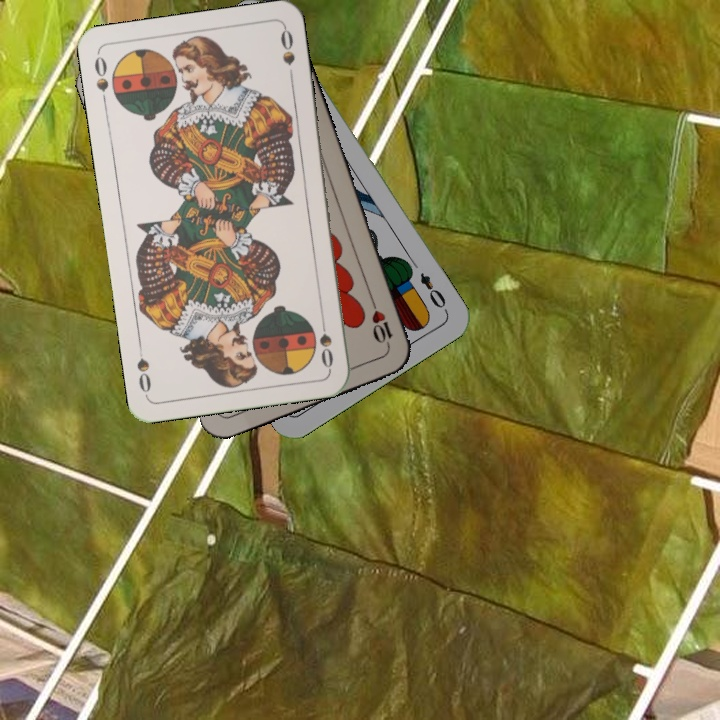EO: (415, 268, 449, 312)
H10: (366, 293, 395, 351)
SO: (90, 52, 112, 110), (315, 312, 336, 371)
